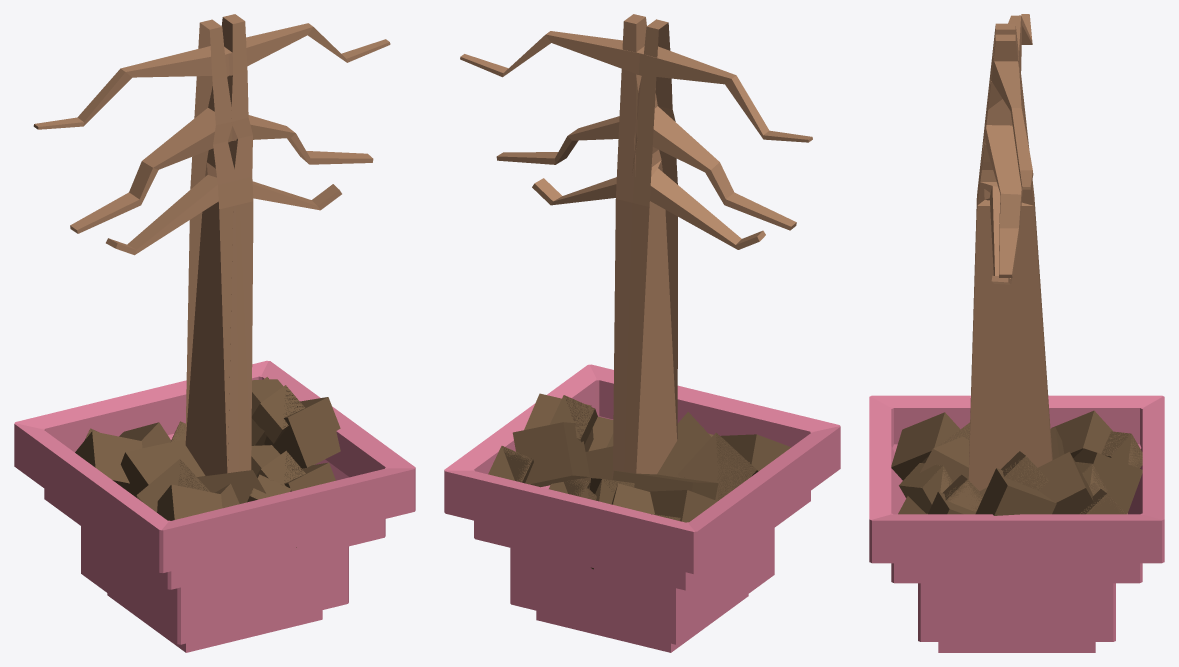
File: Tree.fbx
The picture shows the model from 3 angles, left to right: view 1: azimuth 30°, elevation 25°; view 2: azimuth 150°, elevation 25°; view 3: azimuth 270°, elevation 25°; orthographic projection.
Parts seen in each view (by area): view 1: Cube.029; view 2: Cube.029; view 3: Cube.029.
Boxes of the visible parts, x1=… form: Cube.029: x1=14, y1=14, x2=415, y2=652; Cube.029: x1=444, y1=14, x2=840, y2=652; Cube.029: x1=869, y1=14, x2=1164, y2=652.
Bounding box in the file's own units: 2.08 × 3.32 × 1.51.
